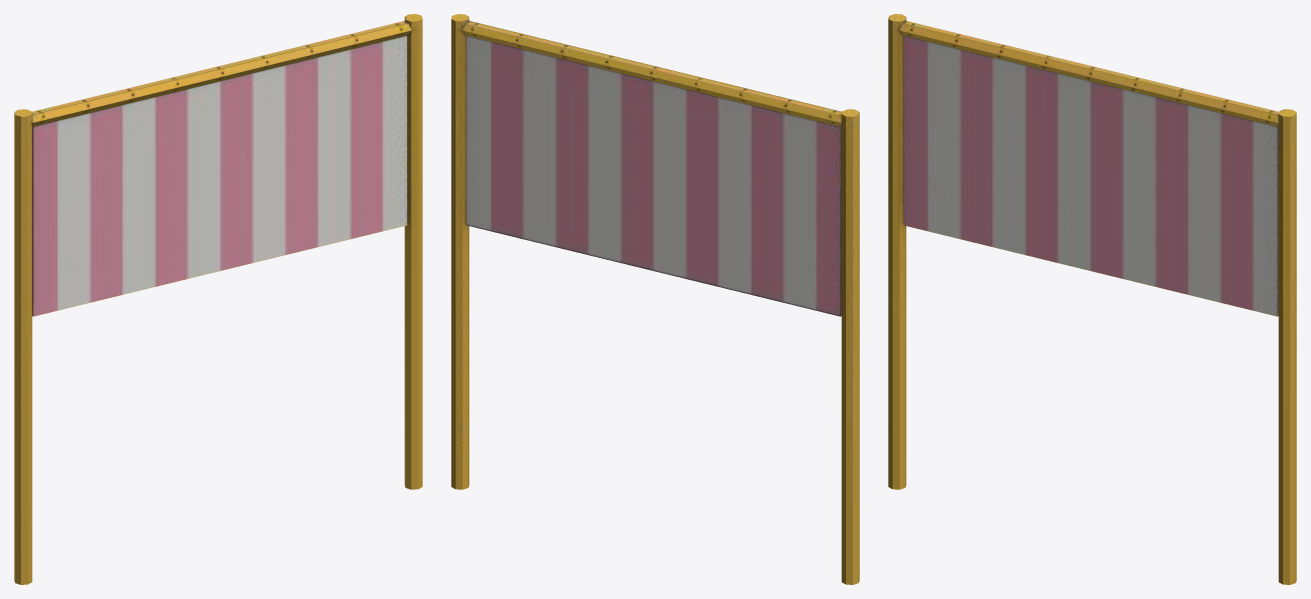
File: cortina_ducha.glb
The picture shows the model from 3 angles, left to right: view 1: azimuth 30°, elevation 25°; view 2: azimuth 150°, elevation 25°; view 3: azimuth 330°, elevation 25°; orthographic projection.
Visible parts, largest first — view 1: cortina_ducha; view 2: cortina_ducha; view 3: cortina_ducha.
Boxes of the visible parts, <box> form: cortina_ducha: <box>14,14,422,584</box>; cortina_ducha: <box>451,14,859,584</box>; cortina_ducha: <box>888,14,1296,584</box>.
Bounding box in the file's own units: 2.5 × 2.75 × 0.1.
Materials: 1 (1 with a texture image).
